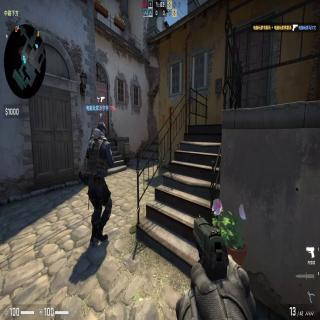CT-Body: (82, 121, 112, 242)
CT-Head: (93, 121, 107, 139)
